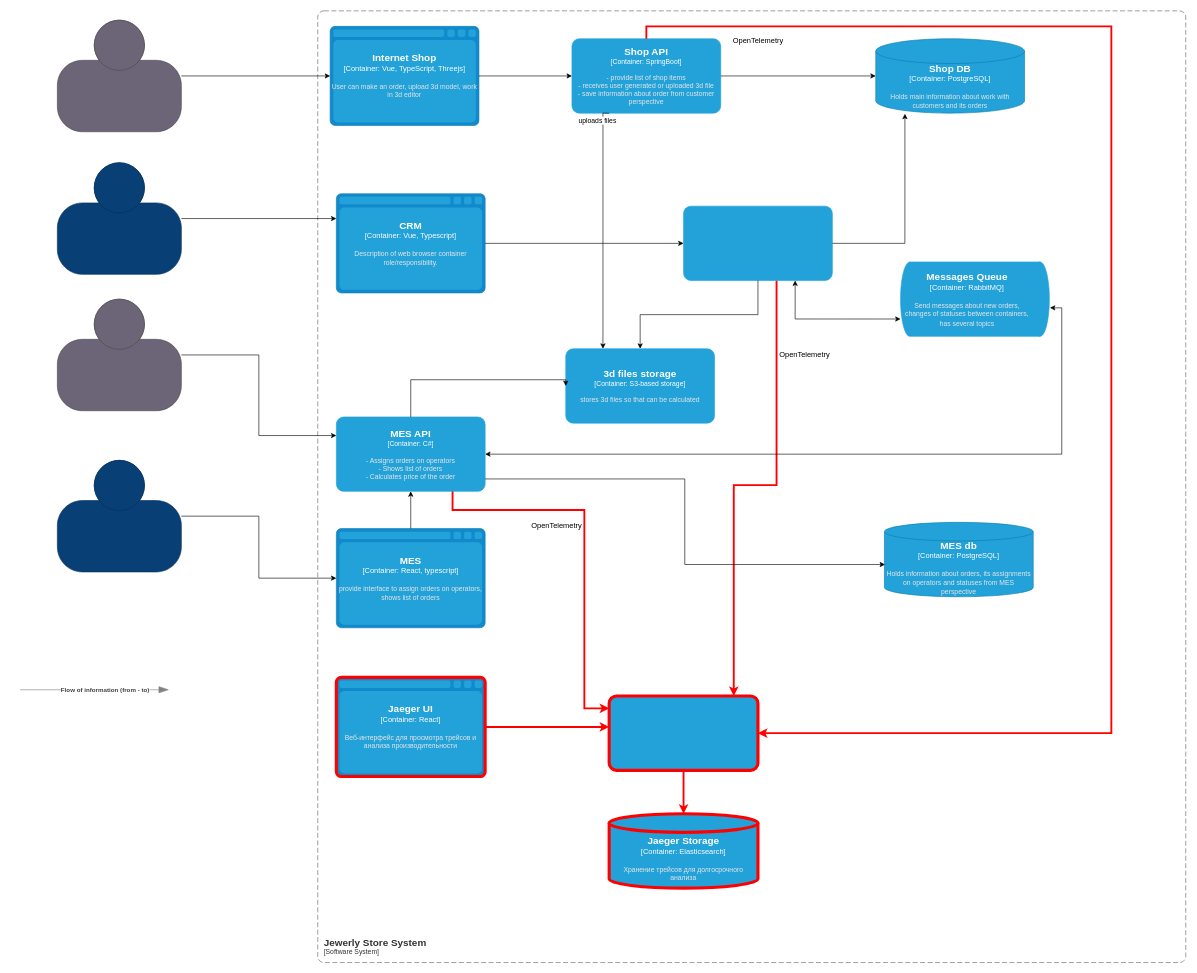
Image size: 1197x973. Some labels were removed from this diagram. Here are the shapes that lost their labels. From the top down, the centre of each, then its label:
point 119,76: Customer [Person] Description of external person.
point 119,218: Seller [Person] Operates with order, confirms manufacturing for the user
point 757,243: CRM API [Container: SpringBoot] Description of container role/responsibility.
point 119,355: API user [Person] Description of external person.
point 119,516: Operator [Person] Takes order in work, manufactures jewerly
point 683,733: Jaeger Collector [Container: Go] Прием и обработка трейсов от сервисов
